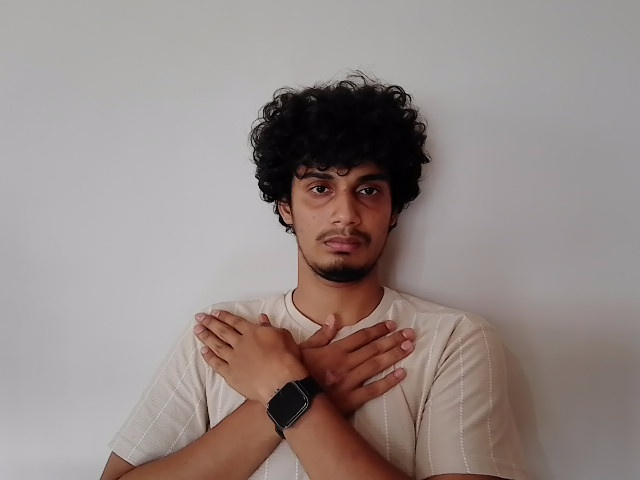relaxing: (190, 310, 426, 425)
